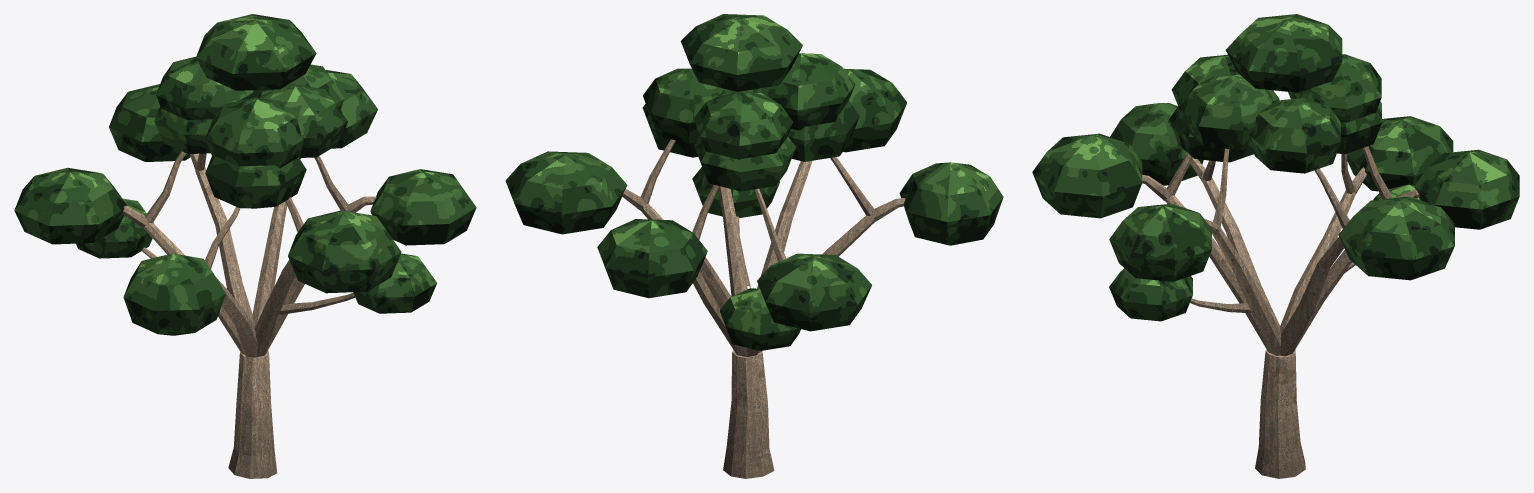
Rendered from tree_keyaki.glb.
3 views of the same model, side by side, from view 1: azimuth 30°, elevation 25°; view 2: azimuth 150°, elevation 25°; view 3: azimuth 270°, elevation 25° (orthographic).
Parts seen in each view (by area): view 1: tree_keyaki; view 2: tree_keyaki; view 3: tree_keyaki.
Part boxes in pixels (<box>): tree_keyaki: <box>14,14,476,478</box>; tree_keyaki: <box>505,14,1003,478</box>; tree_keyaki: <box>1032,14,1519,478</box>.
Bounding box in the file's own units: 6.97 × 8.28 × 8.12.
1 material, 1 textured.
